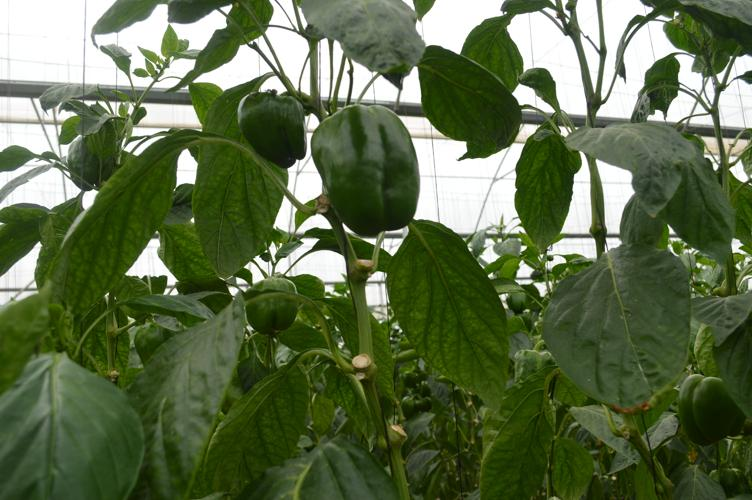BellPepper: (301, 103, 418, 238), (225, 85, 311, 175), (677, 381, 752, 453), (239, 275, 300, 355), (62, 130, 122, 198)
